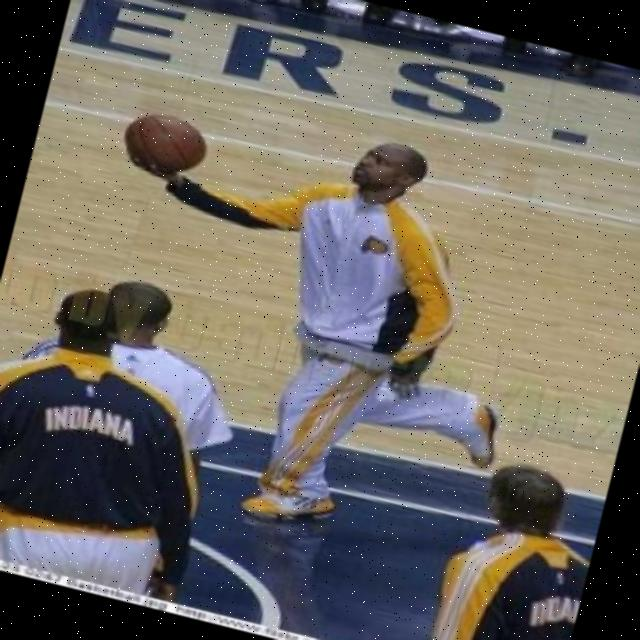ball: (117, 104, 215, 183)
